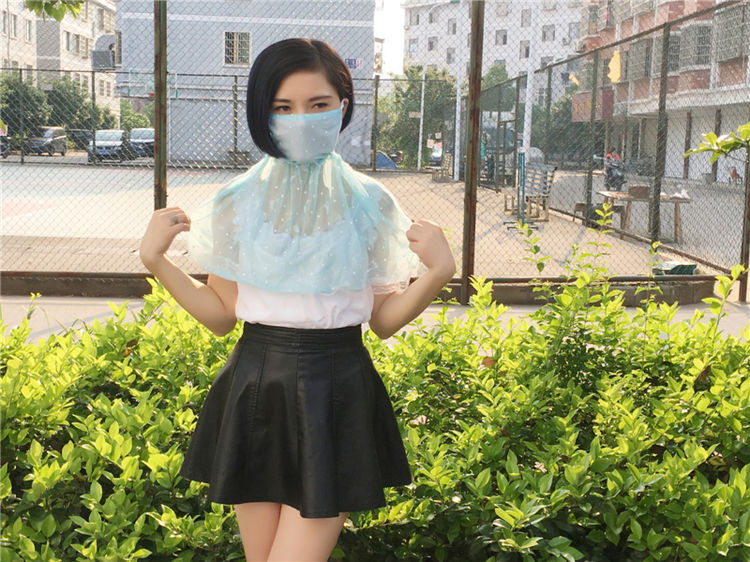face_mask: (270, 70, 343, 160)
